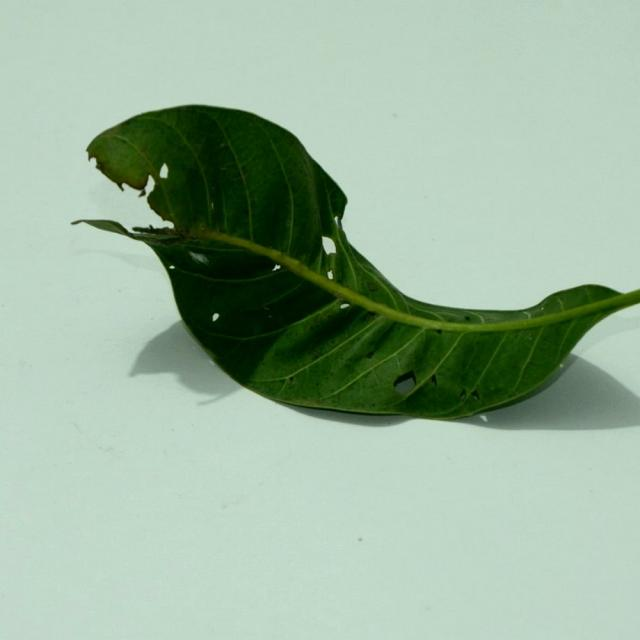Anthracnose: (310, 175, 357, 281), (325, 216, 382, 299), (156, 211, 222, 248), (149, 165, 172, 208), (319, 232, 339, 278), (158, 207, 178, 230), (128, 171, 148, 193), (140, 174, 157, 199), (334, 213, 342, 225), (476, 316, 484, 323)
Mango: (71, 106, 639, 429)
